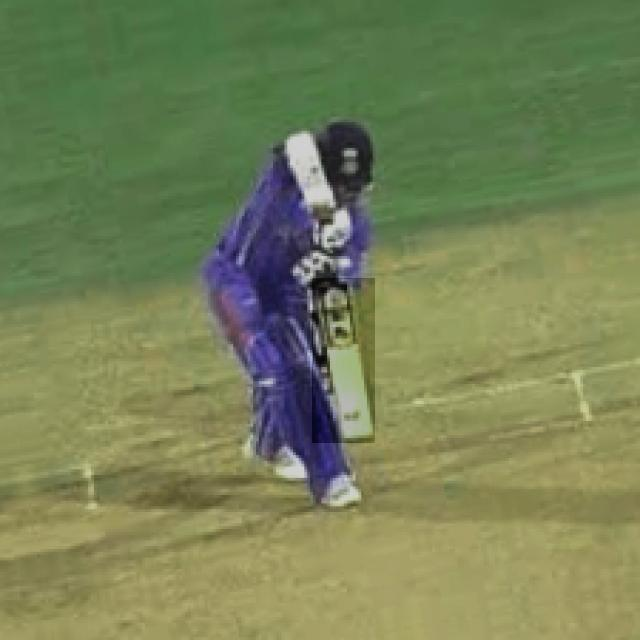bat: (308, 273, 376, 447)
toe: (329, 432, 379, 444)
